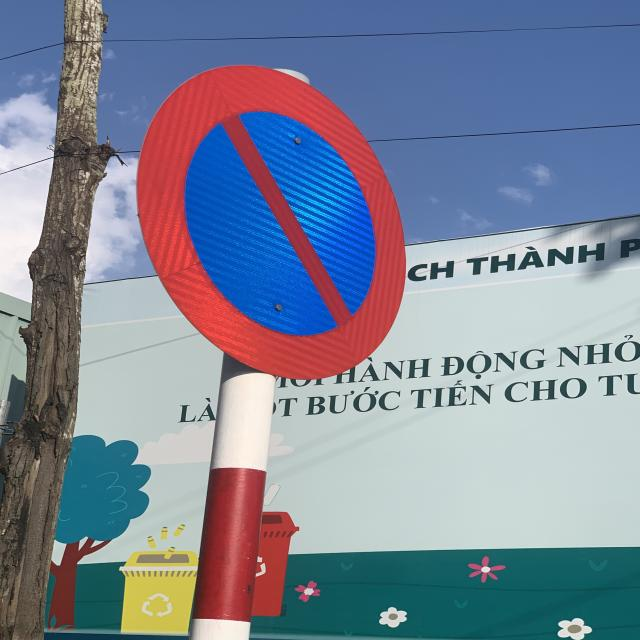Cam_Dau_Xe: (133, 62, 407, 378)
